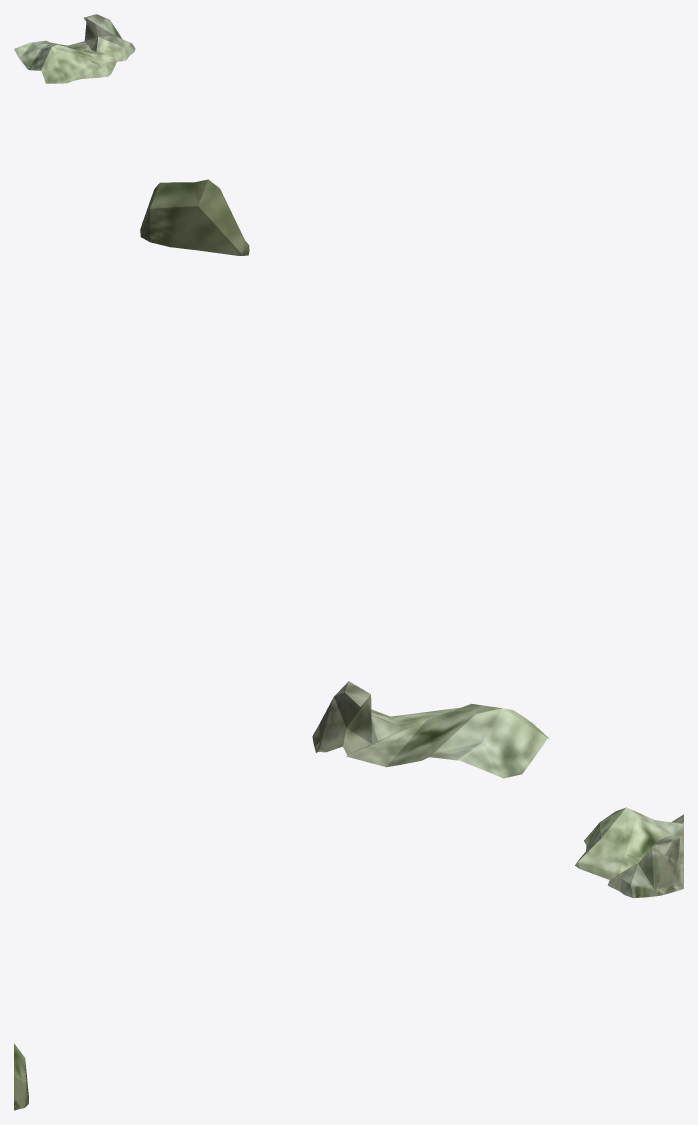
3 renders of one model, top to bottom at view 1: azimuth 30°, elevation 25°; view 2: azimuth 150°, elevation 25°; view 3: azimuth 270°, elevation 25°, orthographic. The views are drawn at different scales.
Bounding box in the file's own units: 5.85 × 0.4375 × 5.9.
Materials: 1 (1 with a texture image).
